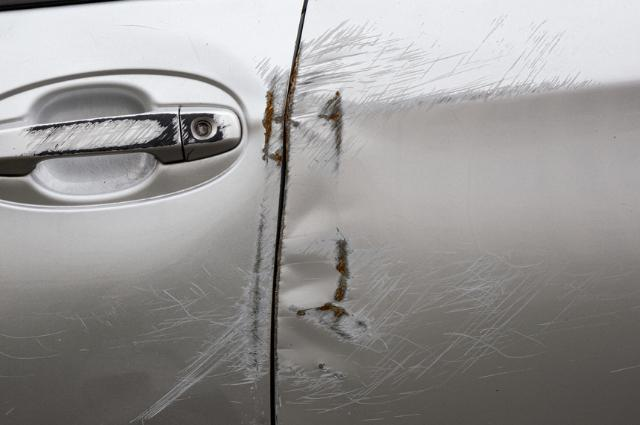Door: (286, 11, 583, 425), (20, 43, 269, 425)
